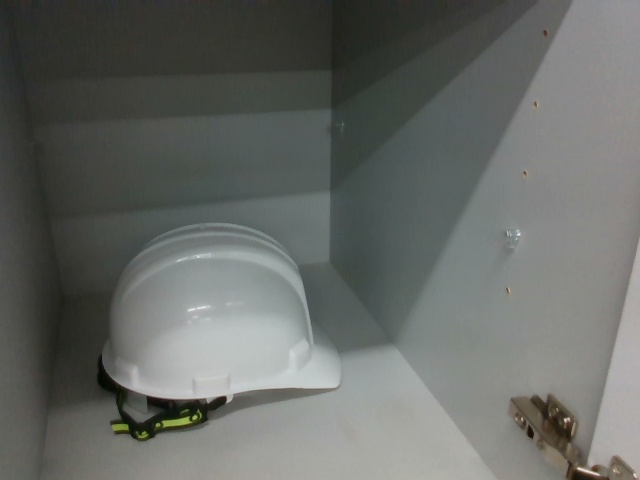helmet: (97, 215, 345, 443)
